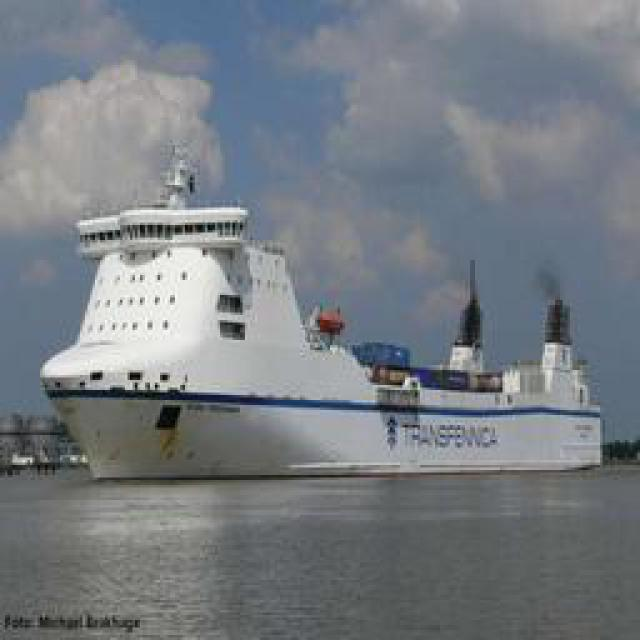Ship: (59, 150, 602, 478)
